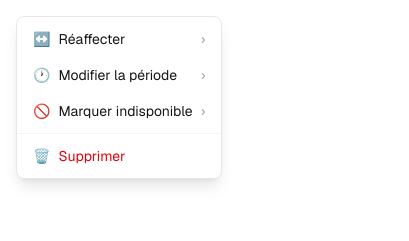
Test: MenuContextuelAffectation › Indisponibilité submenu (AC2) › should show indisponibilité options when clicking Marquer indisponible
Step 1. Click the text "Marquer indisponible" → (126, 111), box [58,101,193,121]
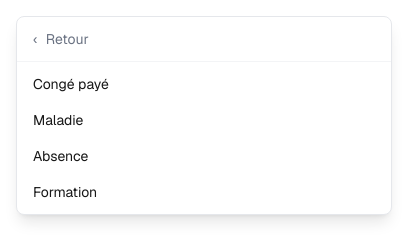
Check: the menu item "Congé payé" is shown, box [17,66,391,102]
Check: the menu item "Maladie" is shown, box [17,102,391,138]
Check: the menu item "Absence" is shown, box [17,138,391,174]
